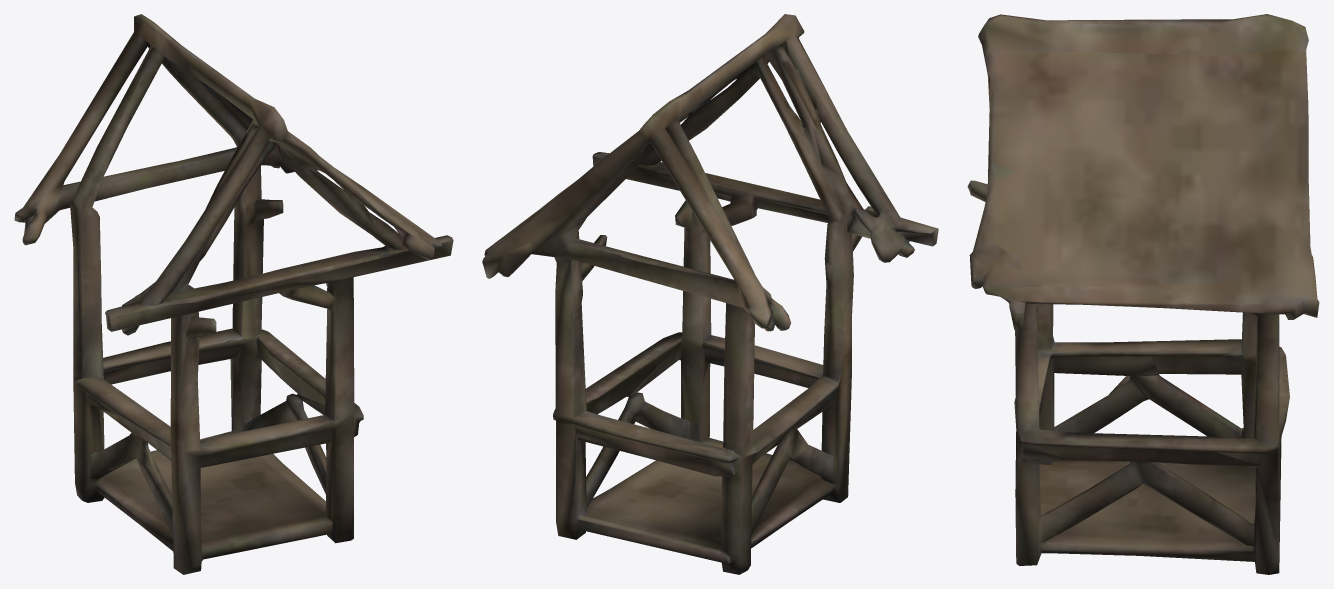
Rendered from sturdy-wood-market-stall-v001.glb.
3 renders of one model, left to right at view 1: azimuth 30°, elevation 25°; view 2: azimuth 150°, elevation 25°; view 3: azimuth 270°, elevation 25°, orthographic. The views are drawn at different scales.
Parts seen in each view (by area): view 1: sturdy-wood-market-stall; view 2: sturdy-wood-market-stall; view 3: sturdy-wood-market-stall.
Part boxes in pixels (x1=…): sturdy-wood-market-stall: x1=14, y1=14, x2=453, y2=574; sturdy-wood-market-stall: x1=482, y1=14, x2=938, y2=574; sturdy-wood-market-stall: x1=967, y1=14, x2=1319, y2=574.
Bounding box in the file's own units: 2.08 × 2.65 × 1.68.
Materials: 1 (1 with a texture image).
